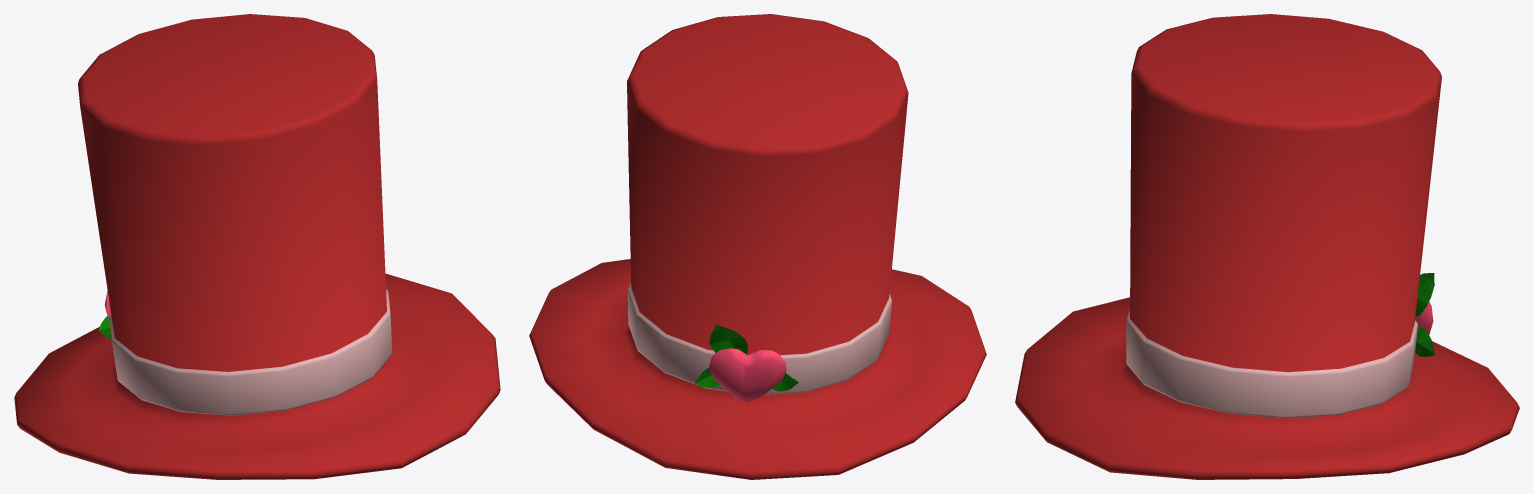
The model's file is tophat_heart.glb.
The picture shows the model from 3 angles, left to right: view 1: azimuth 30°, elevation 25°; view 2: azimuth 150°, elevation 25°; view 3: azimuth 270°, elevation 25°; orthographic projection. The views are drawn at different scales.
Parts seen in each view (by area): view 1: 0.132, 1.077; view 2: 0.132, 1.077, 3.012, 2.041; view 3: 0.132, 1.077, 2.041.
Part boxes in pixels (x1,y1,x2,y2): 0.132: [14, 14, 500, 479]; 1.077: [109, 289, 392, 415]; 0.132: [529, 14, 986, 479]; 1.077: [627, 283, 891, 394]; 3.012: [709, 348, 786, 403]; 2.041: [694, 324, 798, 391]; 0.132: [1015, 14, 1519, 479]; 1.077: [1126, 308, 1417, 418]; 2.041: [1415, 273, 1435, 356].
Size of the model in its own units: 0.5709 by 0.4535 by 0.5712.
